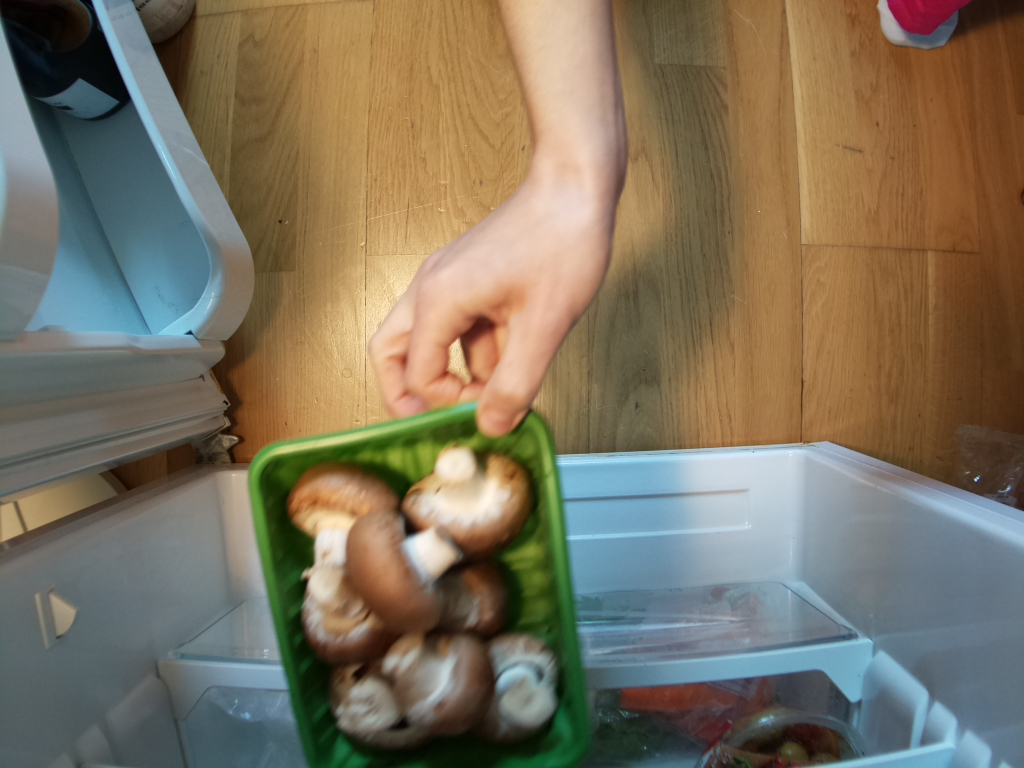mushrooms: (236, 395, 583, 765)
